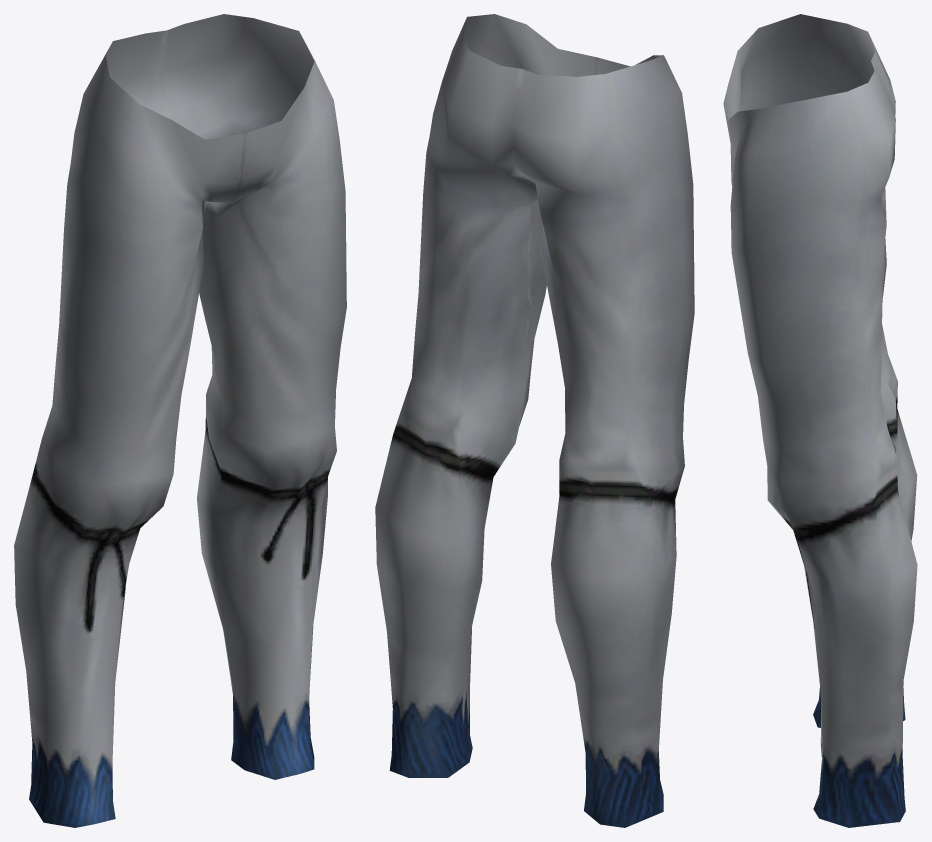
File: Bottom 5 int.fbx
3 renders of one model, left to right at view 1: azimuth 30°, elevation 25°; view 2: azimuth 150°, elevation 25°; view 3: azimuth 270°, elevation 25°, orthographic. The views are drawn at different scales.
Visible parts, largest first — view 1: 棉布裤_0; view 2: 棉布裤_0; view 3: 棉布裤_0.
Part boxes in pixels (box(x1,y1,x2,y2)): 棉布裤_0: box(14, 14, 346, 827); 棉布裤_0: box(375, 14, 694, 827); 棉布裤_0: box(723, 14, 917, 827).
Size of the model in its own units: 43.37 by 108 by 26.88.
Materials: 1 (1 with a texture image).
